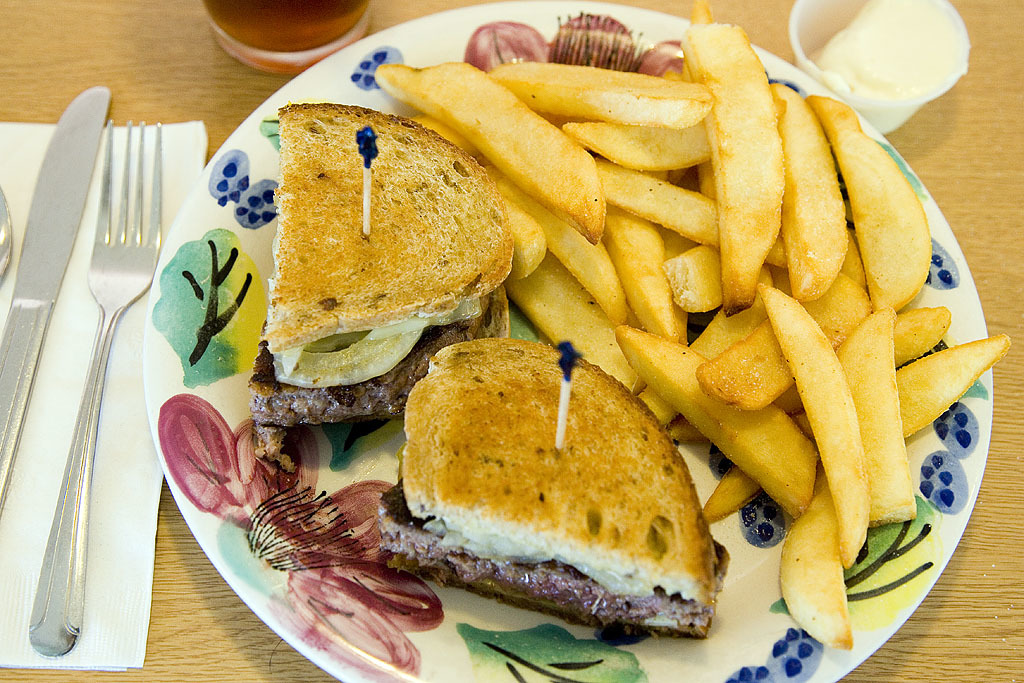French fries: (412, 0, 947, 582)
